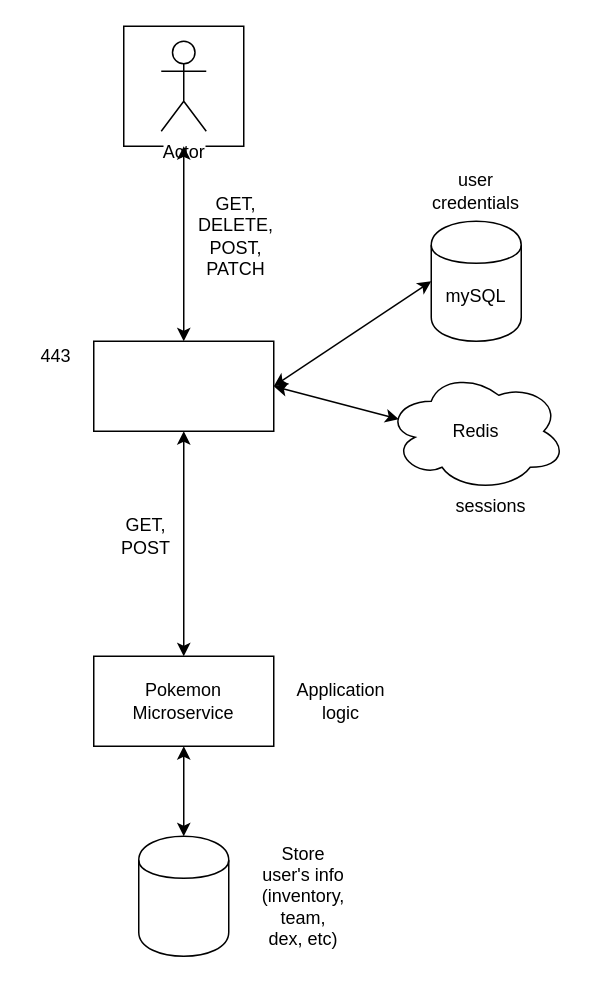
Some shapes in this 593 by 983 pixel diagram are drawn without their labels. The shapes that lost their labels are listed below. From the top down, each one's centre as x and y in pixels, then its label:
point 183,385: Gateway
point 183,895: Mongo
